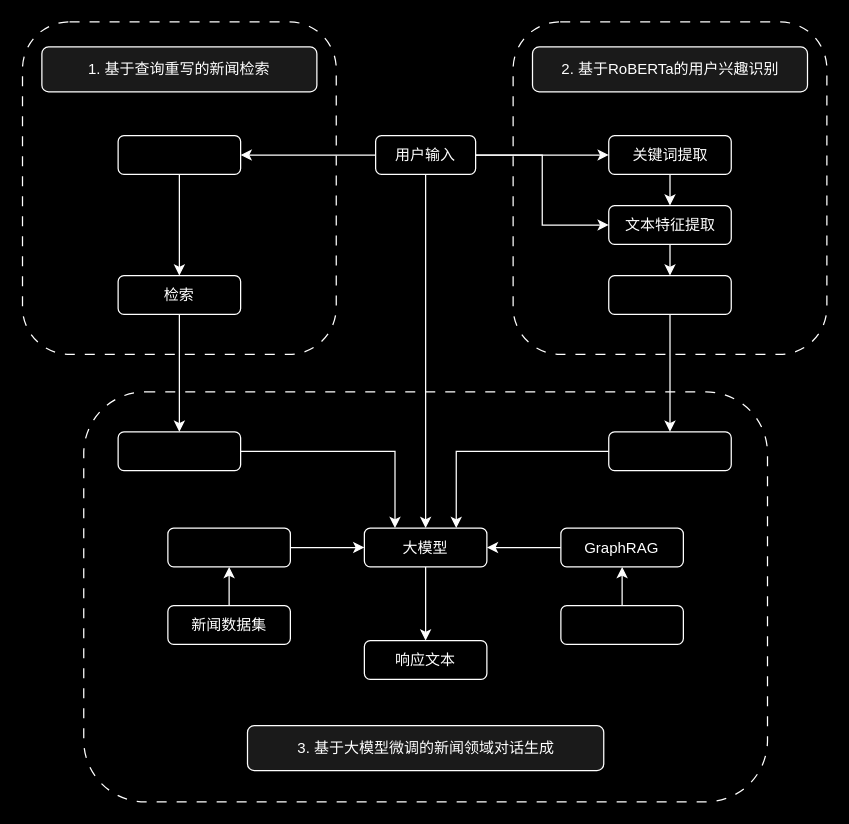
Some shapes in this 849 by 824 pixel diagram are drawn without their labels. The shapes that lost their labels are listed below. From the top down, each one's box as (x1, y1, x2, y2) in pixels, then its label:
(117, 134, 241, 174): 查询重写
(608, 274, 731, 314): 用户兴趣识别
(117, 431, 241, 471): 外部文档
(608, 431, 731, 471): 用户兴趣
(167, 527, 290, 567): LoRA微调
(560, 604, 683, 644): 对话记忆
